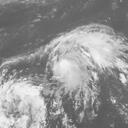cyclone: (50, 33, 101, 94)
